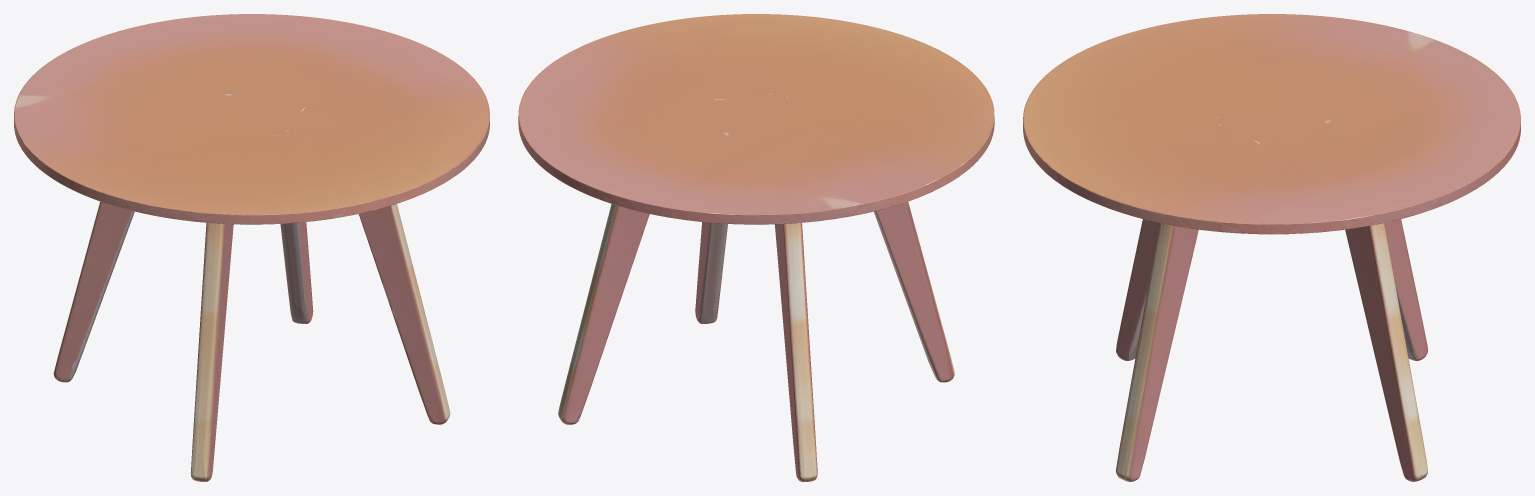
Rendered from edited_mesh.glb.
3 renders of one model, left to right at view 1: azimuth 30°, elevation 25°; view 2: azimuth 150°, elevation 25°; view 3: azimuth 270°, elevation 25°, orthographic. The views are drawn at different scales.
Parts seen in each view (by area): view 1: solid_001_wire; view 2: solid_001_wire; view 3: solid_001_wire.
Boxes of the visible parts, x1,y1,x2,y2 form: solid_001_wire: (14, 14, 489, 481); solid_001_wire: (518, 14, 994, 481); solid_001_wire: (1023, 14, 1520, 481).
Size of the model in its own units: 1.72 by 1.14 by 1.72.
1 material, 1 textured.
